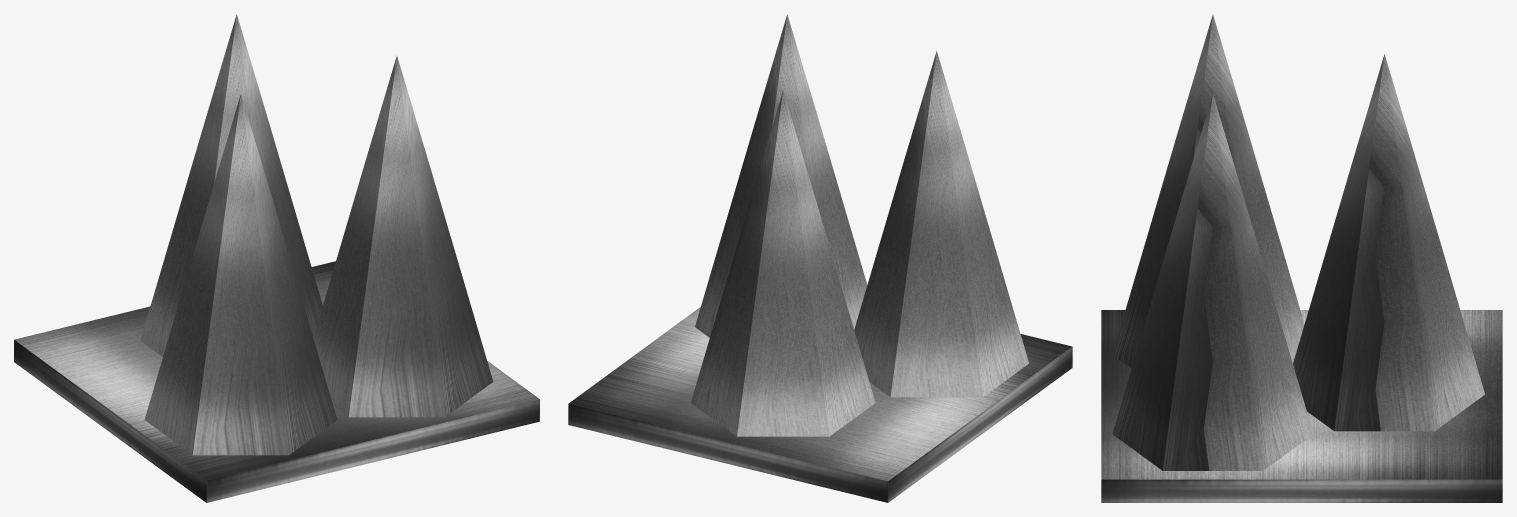
The model's file is pinches cube.FBX.
3 renders of one model, left to right at view 1: azimuth 30°, elevation 25°; view 2: azimuth 150°, elevation 25°; view 3: azimuth 270°, elevation 25°, orthographic. The views are drawn at different scales.
Parts seen in each view (by area): view 1: Box001; view 2: Box001; view 3: Box001.
Boxes of the visible parts, left/top/right/bottom form: Box001: left=14, top=14, right=539, bottom=502; Box001: left=568, top=14, right=1072, bottom=502; Box001: left=1101, top=14, right=1502, bottom=502.
Size of the model in its own units: 1 by 1 by 1.
Materials: 1 (1 with a texture image).
